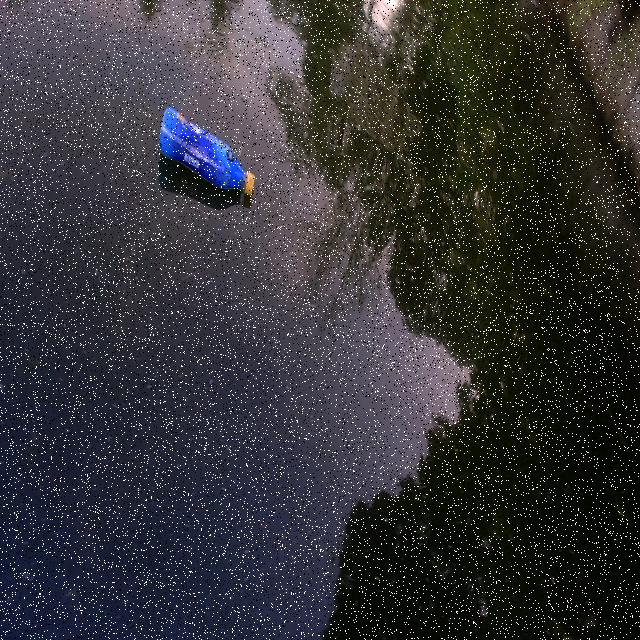Bottle: (156, 93, 256, 198)
